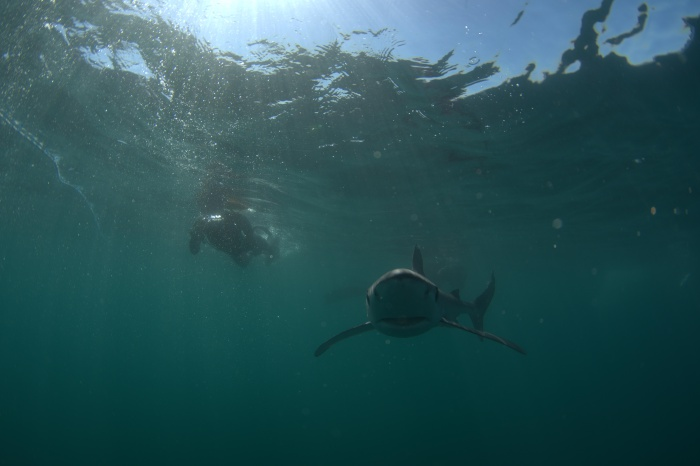Azul: (307, 244, 525, 368)
